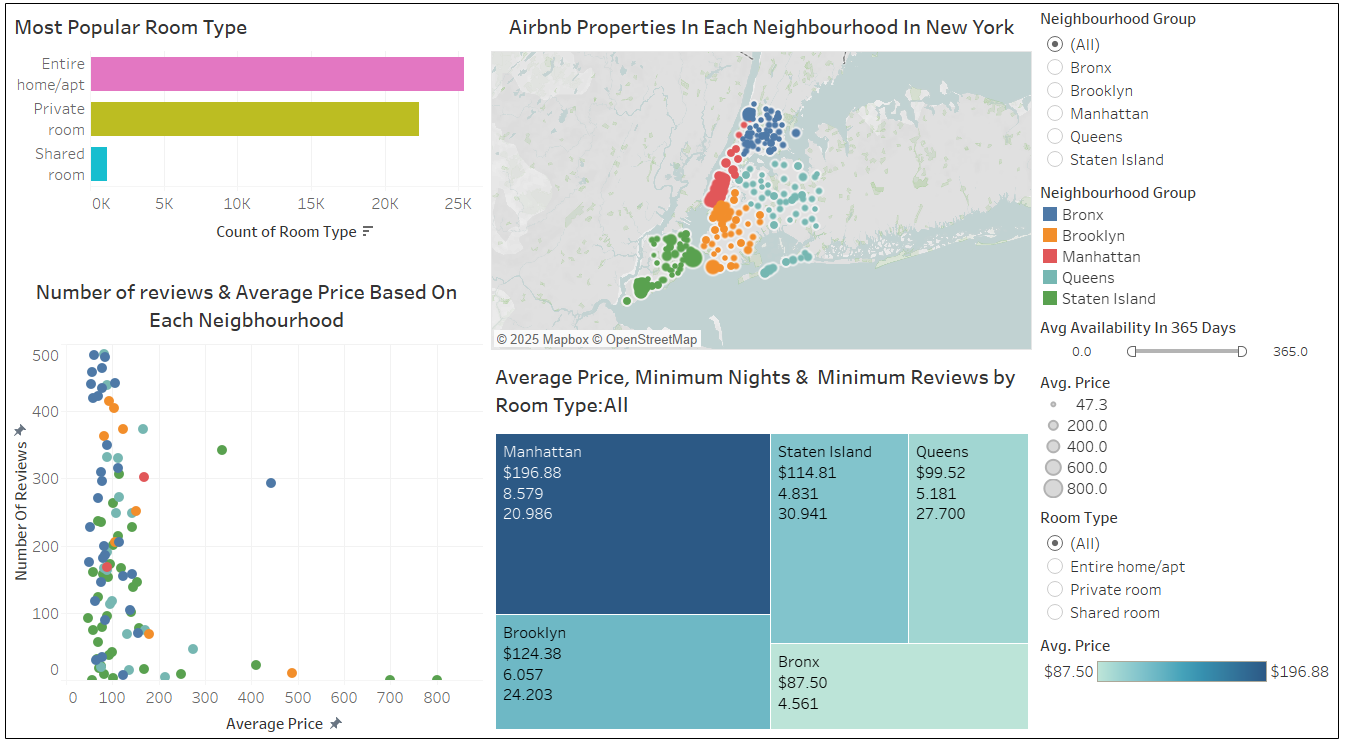

What the dashboard file says about the page in this screenshot:
{"tool":"tableau","page":{"name":"Dashboard ","canvas":[1366,768],"ordinal":0},"visuals":[{"type":"worksheet","title":"Stacked Bar Chart","mark":"Automatic","rows":["room_type"],"cols":["room_type"],"box":[17,17,481.1,265.2]},{"type":"worksheet","title":"Map","mark":"Circle","rows":["latitude"],"cols":["longitude"],"box":[498.1,17,548.5,350.3]},{"type":"filter","title":"Scatter Plot","param":"[federated.1fhc4db034gmnl1edk4690f0m5hg (copy)].[none:neighbourhood_group:nk]","box":[1046.6,17,302.4,174]},{"type":"legend","title":"Map","param":"[federated.1fhc4db034gmnl1edk4690f0m5hg (copy)].[none:neighbourhood_group:nk]","box":[1046.6,191,302.4,135]},{"type":"worksheet","title":"Scatter Plot","mark":"Circle","rows":["number_of_reviews"],"cols":["price"],"box":[17,282.2,481.1,468.8]},{"type":"filter","title":"Map","param":"[federated.1fhc4db034gmnl1edk4690f0m5hg (copy)].[avg:availability_365:qk]","box":[1046.6,326,302.4,55]},{"type":"worksheet","title":"TreeMap","mark":"Automatic","box":[498.1,367.3,548.5,383.7]},{"type":"legend","title":"Map","param":"[federated.1fhc4db034gmnl1edk4690f0m5hg (copy)].[avg:price:qk]","box":[1046.6,381,302.4,135]},{"type":"filter","title":"TreeMap","param":"[federated.1fhc4db034gmnl1edk4690f0m5hg (copy)].[none:room_type:nk]","box":[1046.6,516,302.4,128]},{"type":"legend","title":"TreeMap","param":"[federated.1fhc4db034gmnl1edk4690f0m5hg (copy)].[avg:price:qk]","box":[1046.6,644,302.4,73]}]}

Visuals, with their boxes in screenshot pixels (x1, y1, x2, y2), scaled from the page's 1366x768 canvas onto the 1351x748 screenshot:
"Stacked Bar Chart" worksheet: crop(17, 17, 493, 275)
"Map" worksheet (Circle marks): crop(493, 17, 1035, 358)
"Scatter Plot" filter: crop(1035, 17, 1334, 186)
"Map" legend: crop(1035, 186, 1334, 318)
"Scatter Plot" worksheet (Circle marks): crop(17, 275, 493, 731)
"Map" filter: crop(1035, 318, 1334, 371)
"TreeMap" worksheet: crop(493, 358, 1035, 731)
"Map" legend: crop(1035, 371, 1334, 503)
"TreeMap" filter: crop(1035, 503, 1334, 627)
"TreeMap" legend: crop(1035, 627, 1334, 698)
